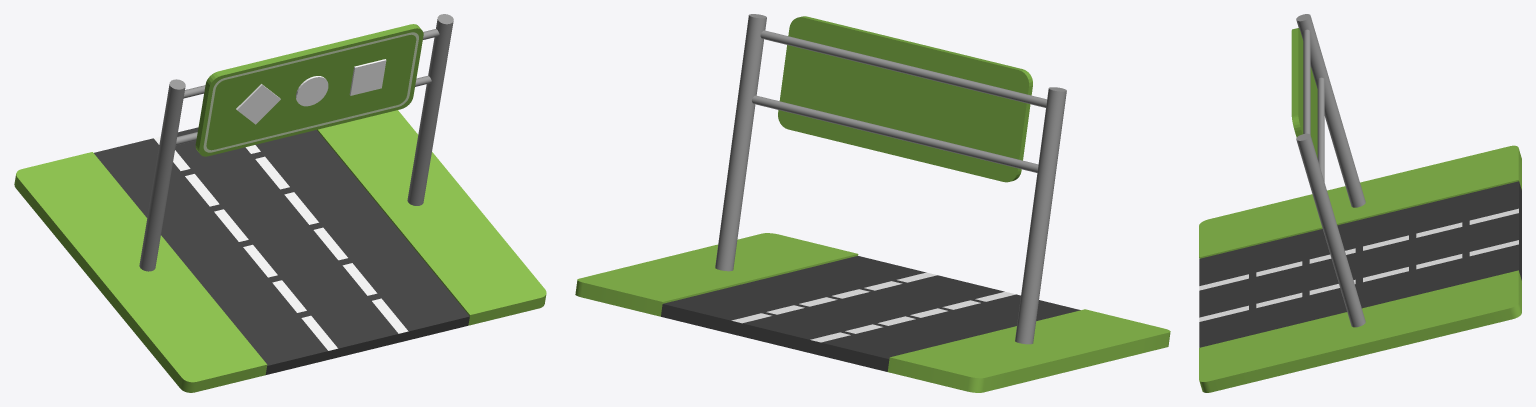
The model's file is motorway.fbx.
3 views of the same model, side by side, from view 1: azimuth 30°, elevation 25°; view 2: azimuth 150°, elevation 25°; view 3: azimuth 270°, elevation 25° (orthographic). The views are drawn at different scales.
Parts seen in each view (by area): view 1: Cube.750; view 2: Cube.750; view 3: Cube.750.
Part boxes in pixels (box(x1,y1,x2,y2)): Cube.750: box(14, 14, 546, 392); Cube.750: box(575, 14, 1170, 392); Cube.750: box(1199, 14, 1521, 392).
Size of the model in its own units: 209 by 145 by 176.
Materials: 1 (1 with a texture image).
